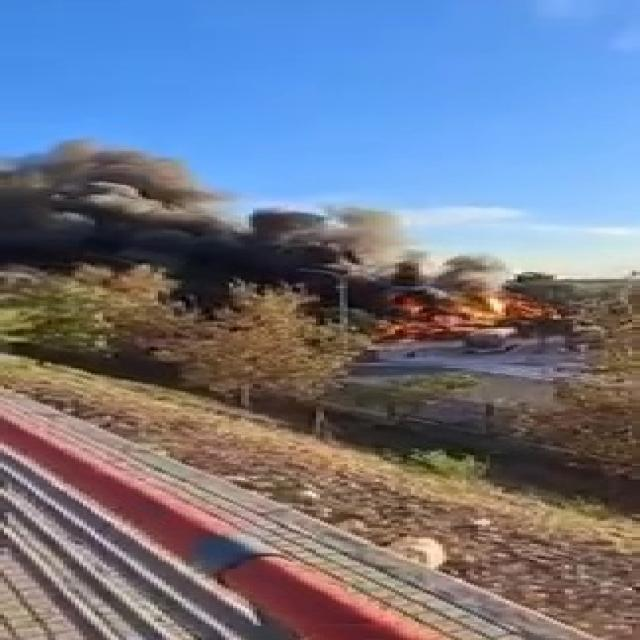Fire: (348, 279, 493, 341)
Smoke: (8, 128, 530, 315)
